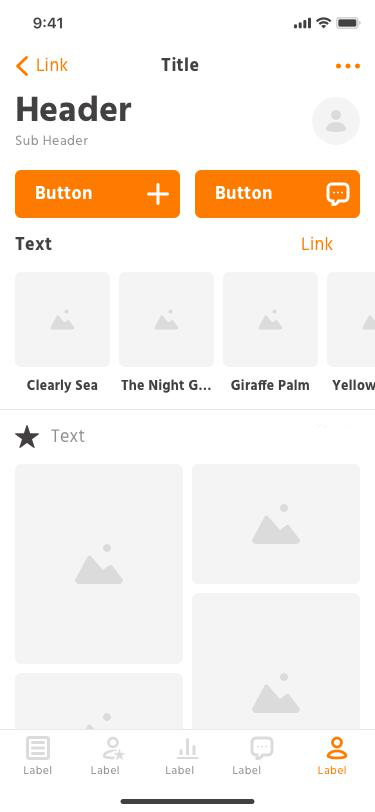Icon: (312, 98, 360, 146), (26, 736, 51, 760), (15, 425, 40, 448), (251, 736, 274, 760), (103, 737, 127, 760), (326, 736, 348, 759), (177, 738, 200, 759), (17, 57, 30, 77), (336, 64, 361, 70)
Image: (15, 464, 184, 664), (193, 593, 361, 729), (192, 464, 360, 584), (119, 272, 215, 368), (223, 272, 318, 368), (16, 273, 111, 367), (327, 272, 375, 368)
Text: (17, 96, 132, 122), (121, 379, 211, 394), (28, 379, 98, 394), (231, 379, 310, 391), (16, 135, 90, 146), (161, 57, 199, 72), (16, 237, 53, 251), (51, 429, 86, 443), (332, 379, 375, 390), (37, 58, 69, 72), (302, 237, 334, 250), (165, 765, 195, 775), (24, 765, 53, 775), (318, 764, 347, 774), (233, 765, 261, 775), (91, 765, 120, 774)
TextButton: (195, 170, 360, 219), (16, 170, 181, 218)
UpperTaskBar: (34, 17, 361, 30)
